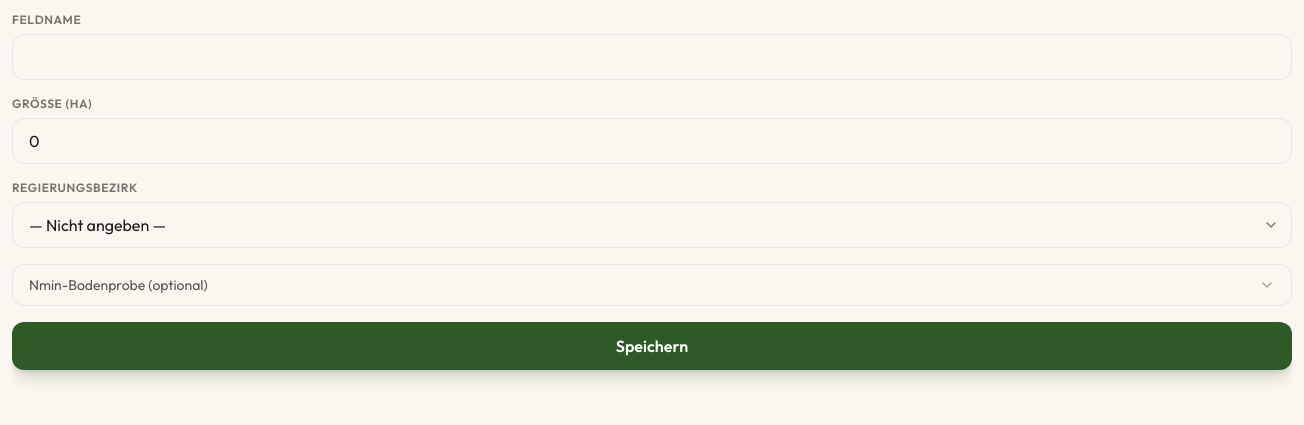
Scenario: FieldForm › validates that name is required
Replace the text in the number field with test id "feld-size-input" with "5.5": (652, 141) [12,118,1292,164]
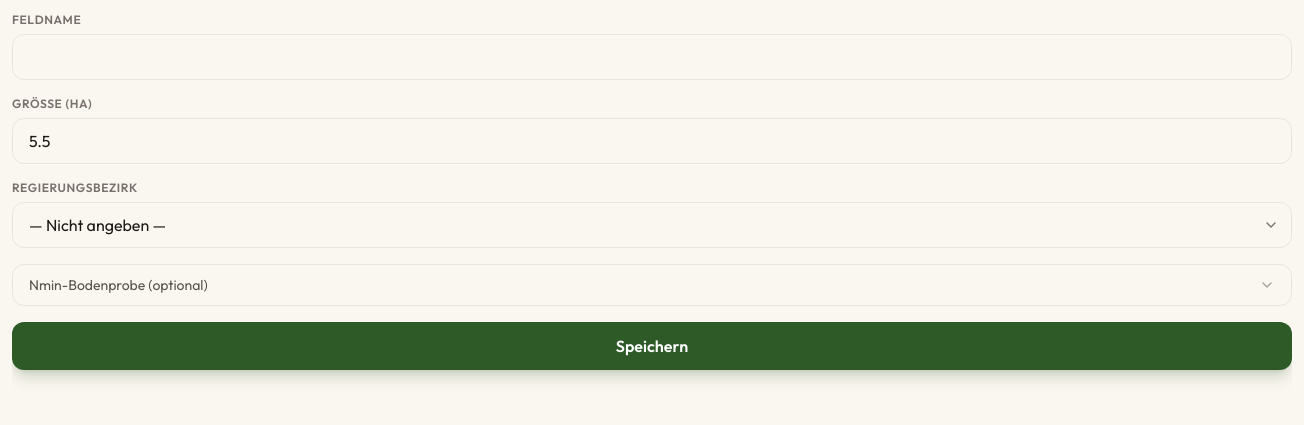
Submit the form
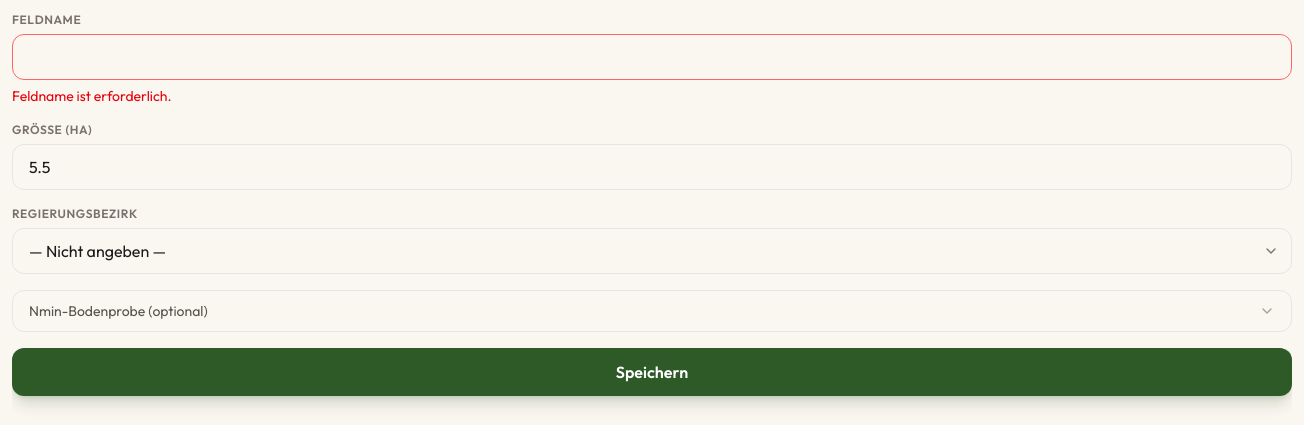
Check: the text "Feldname ist erforderlich." is shown, box [12,87,172,105]
